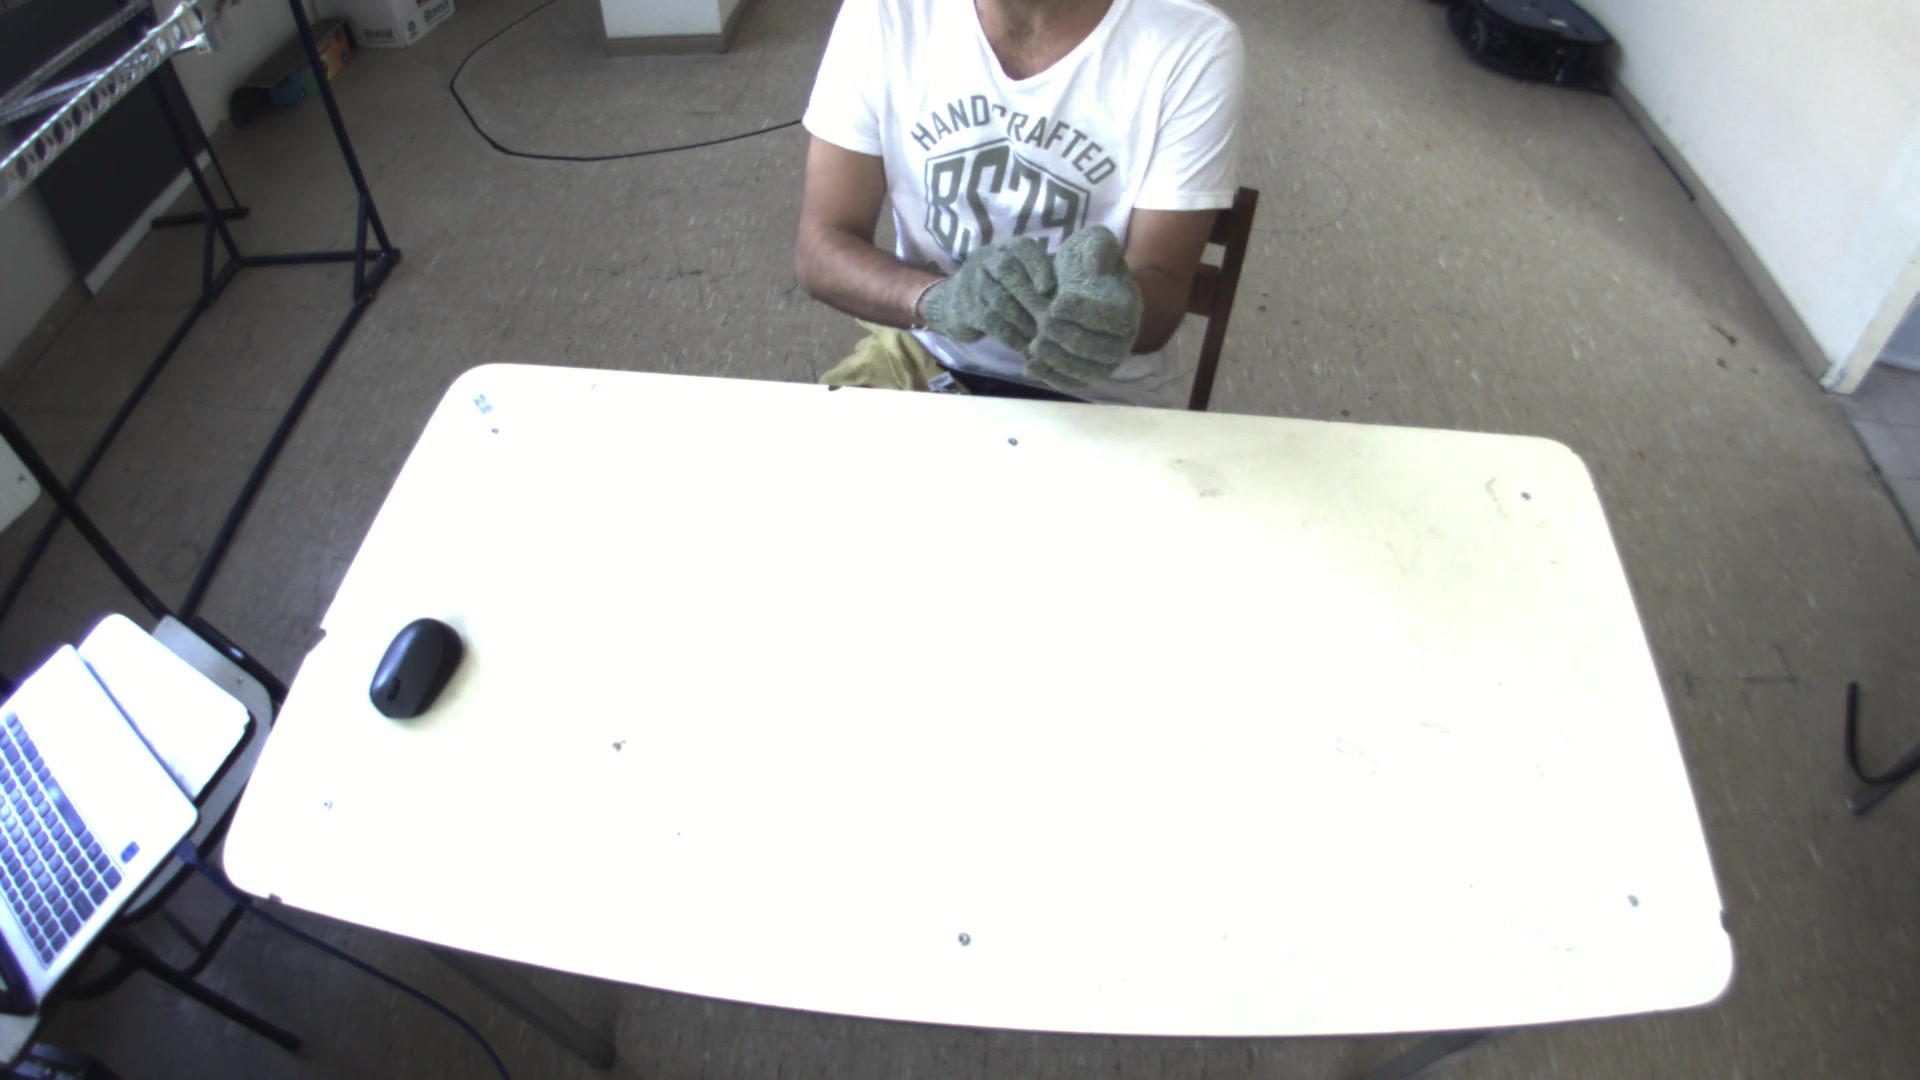hand: (1030, 208, 1167, 402), (939, 222, 1056, 351)
